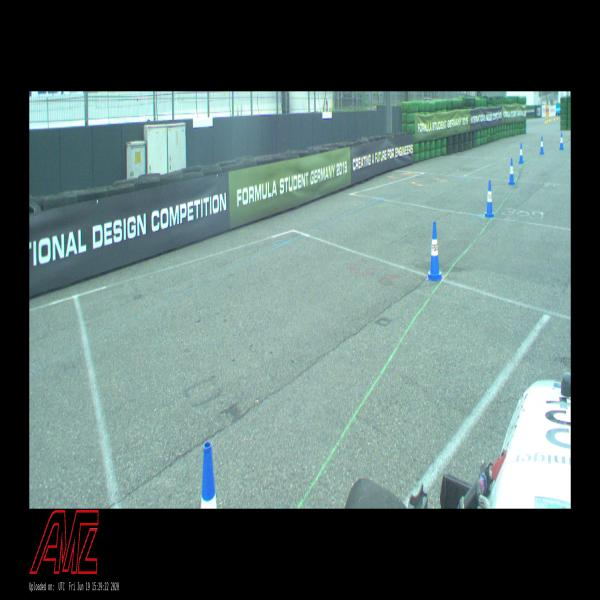blue_cone: (200, 442, 218, 508), (428, 221, 441, 281), (485, 180, 494, 217), (508, 158, 515, 184), (518, 144, 524, 164), (559, 132, 564, 150), (540, 136, 544, 155)
yellow_cone: (548, 116, 550, 121), (547, 116, 548, 122), (545, 118, 546, 124), (554, 115, 555, 120), (550, 115, 551, 120), (557, 115, 558, 119)
